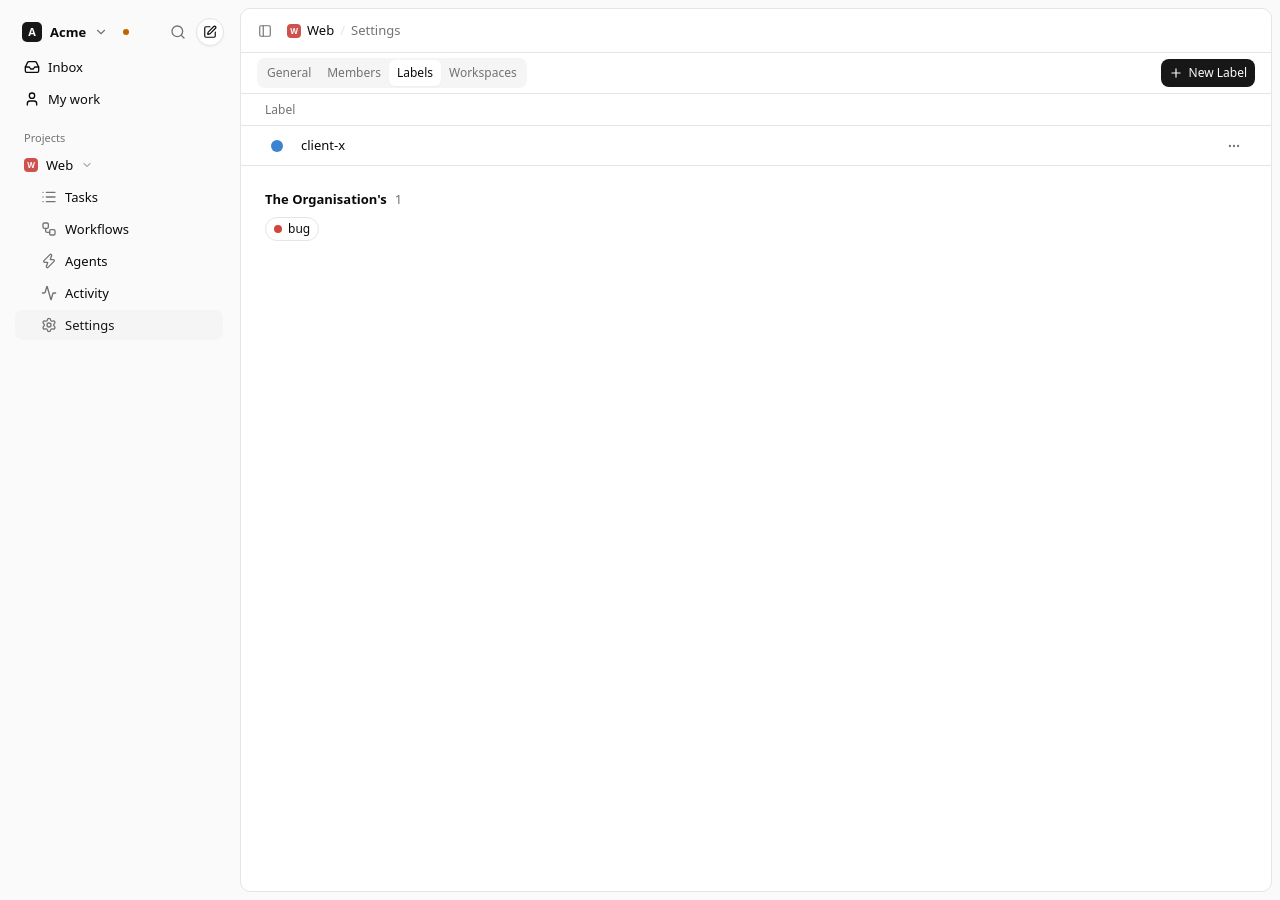
Test: a Project › Settings › Labels › lets a Member of the Project define its own Labels, with the Organisation's under them
Expected: the row "client-x" is shown, [241,126,1271,166]
Expected: the text "bug" is shown, [288,221,310,237]
Click the button "New Label". click: x=1208, y=73
box: [1160,59,1255,87]
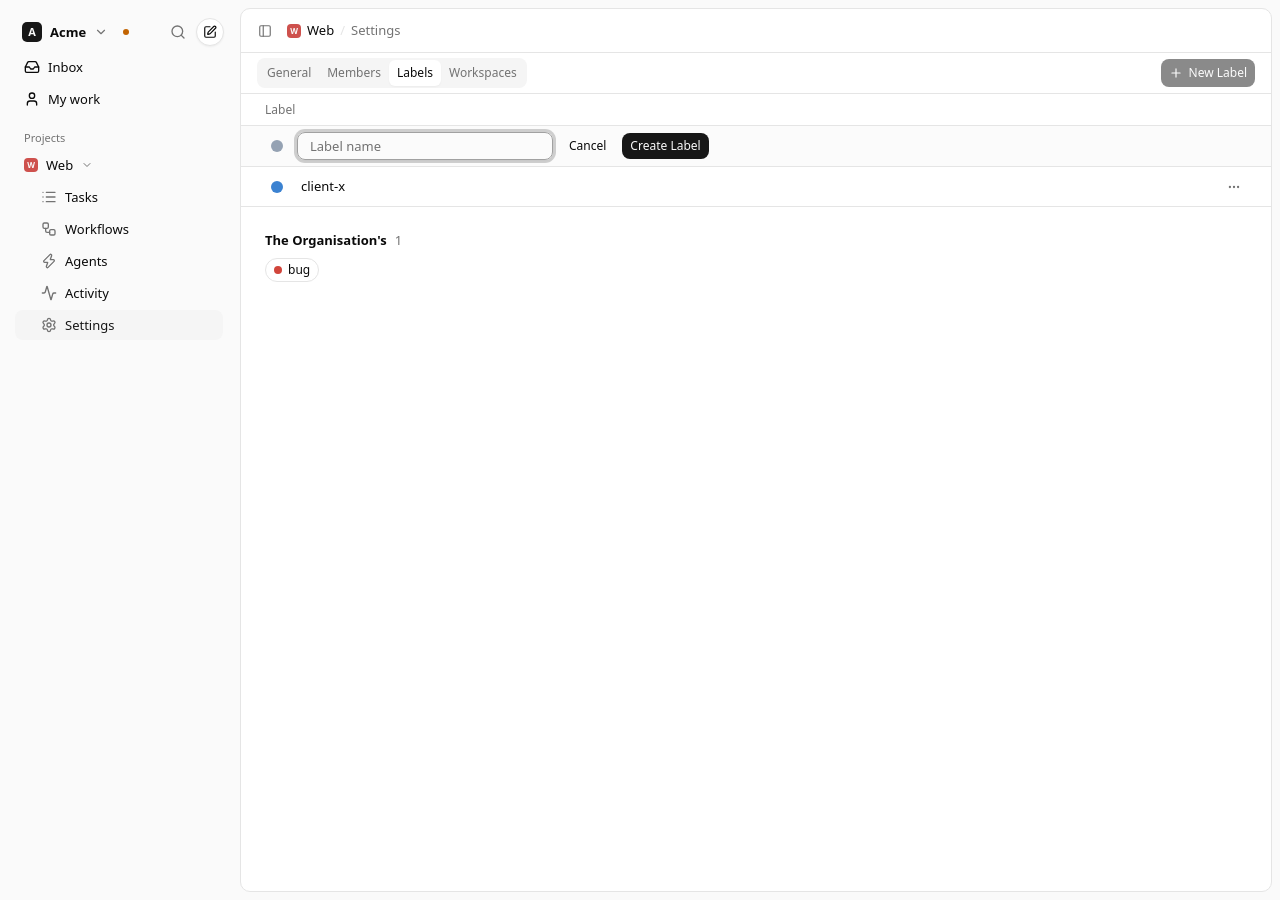
Type "Bug" into the field named "Name of the new Label". click: x=425, y=146
box: [297,132,553,160]
Then press Enter
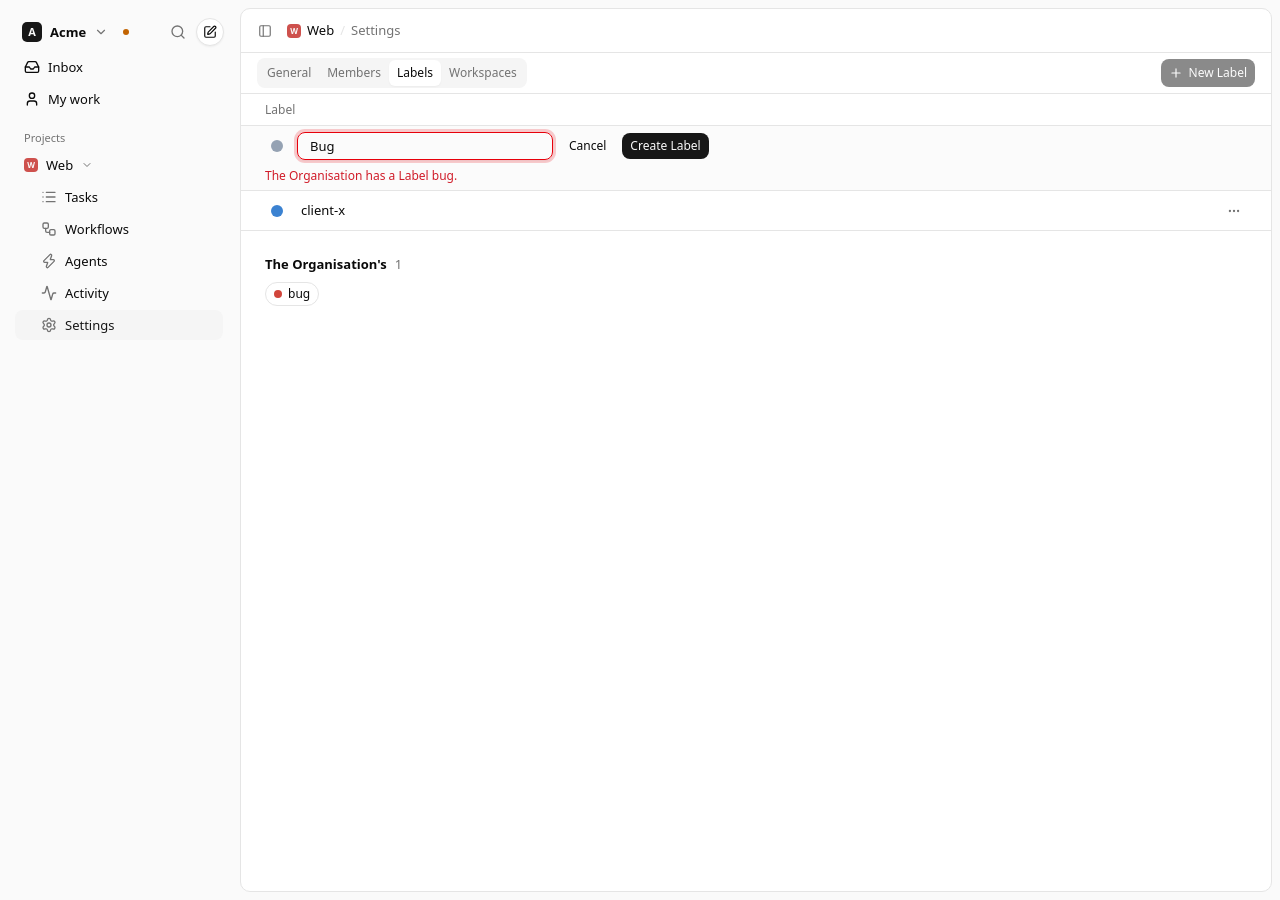
Expected: the text "The Organisation has a Label bug." is shown, [265,167,457,184]
Replace the text in the field named "Name of the new Label" with "client-y". click: x=425, y=146
box: [297,132,553,160]
Then press Enter
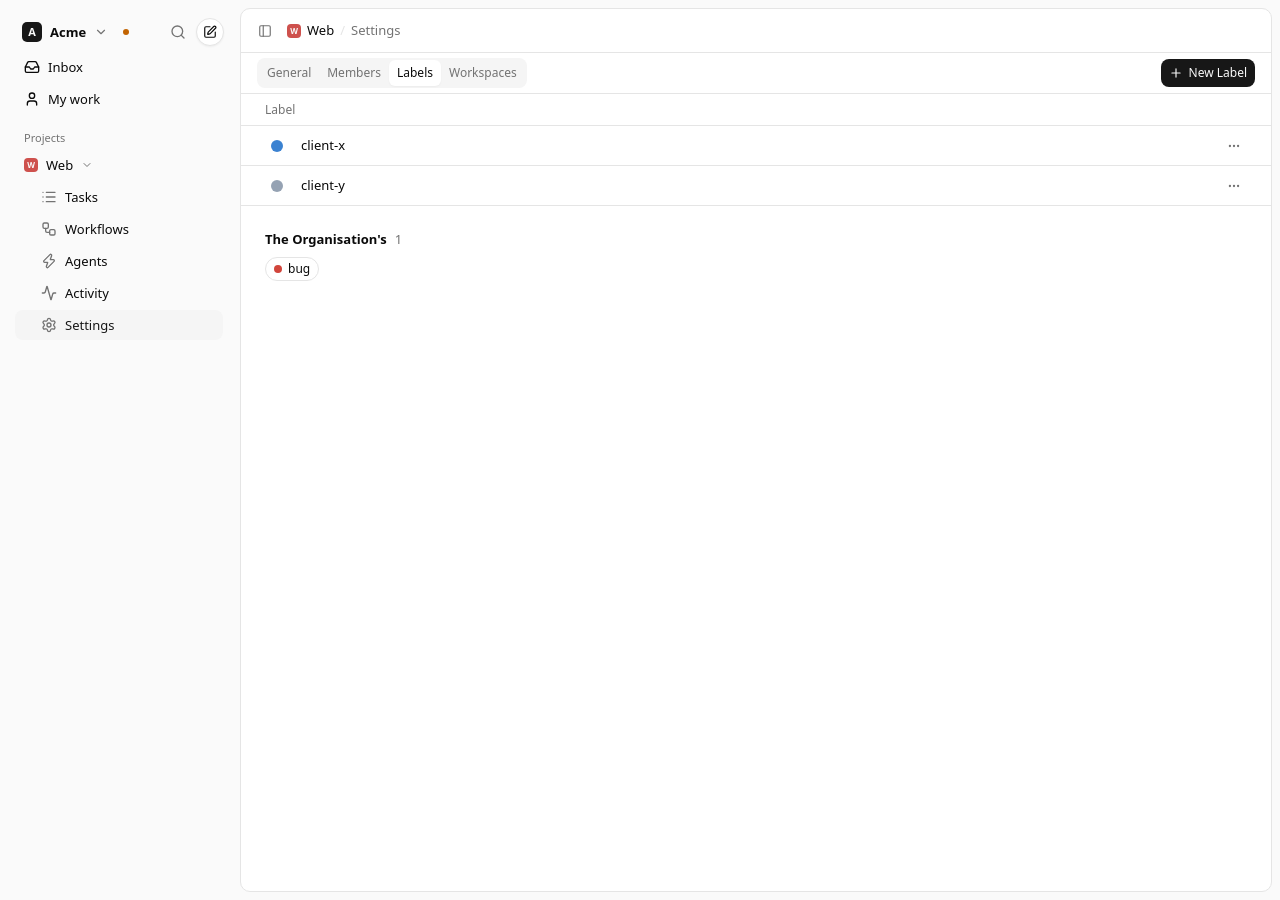
Expected: the row "client-y" is shown, [241,166,1271,206]
